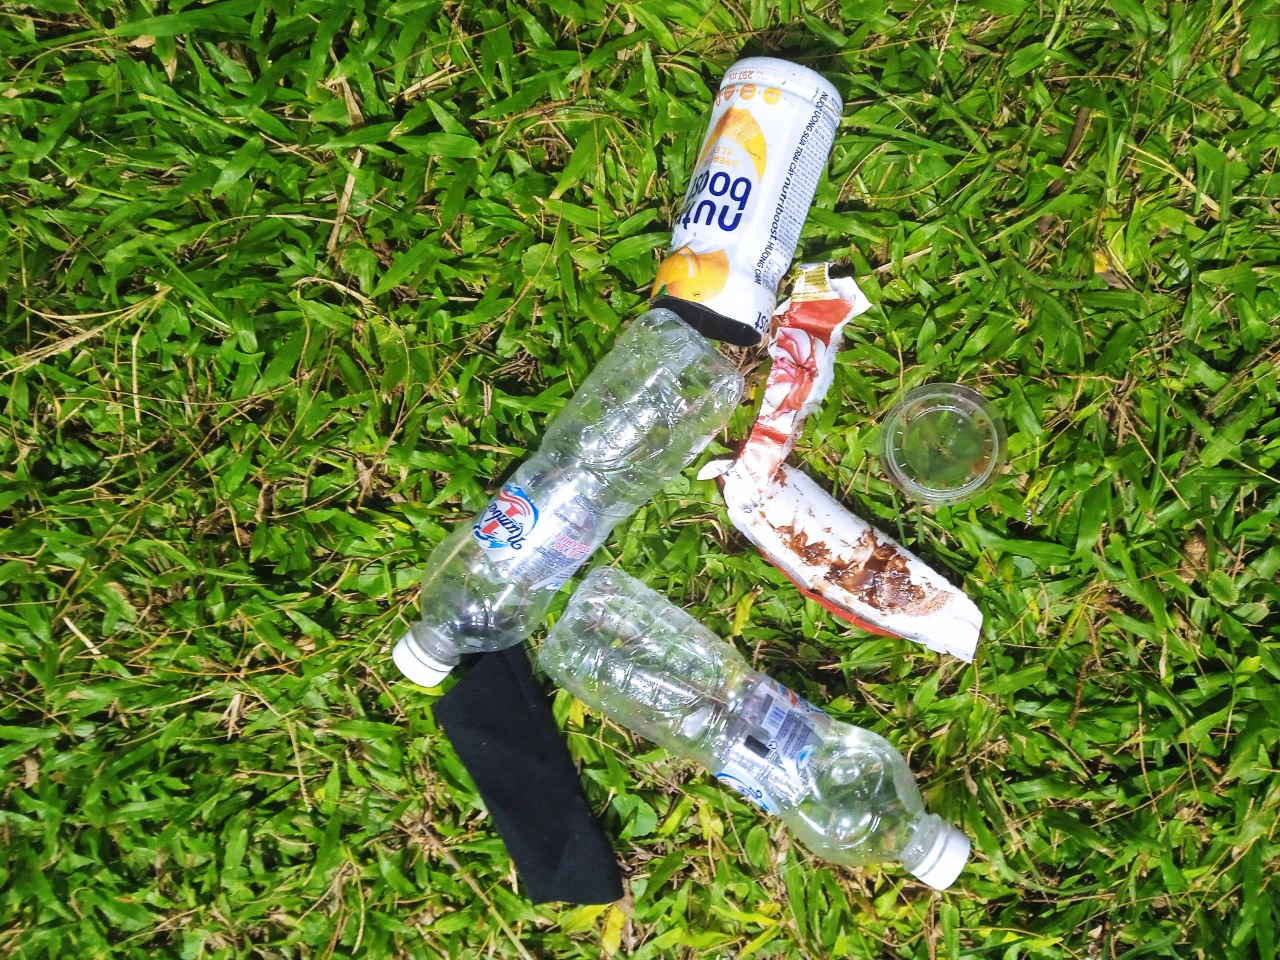clothes: (399, 634, 640, 919)
paper: (732, 264, 1014, 655)
plastic: (529, 562, 1003, 900), (321, 319, 747, 678), (621, 57, 852, 325), (873, 392, 1003, 508)
